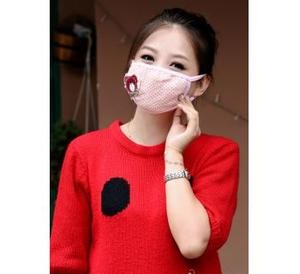face_mask: (125, 26, 197, 110)
